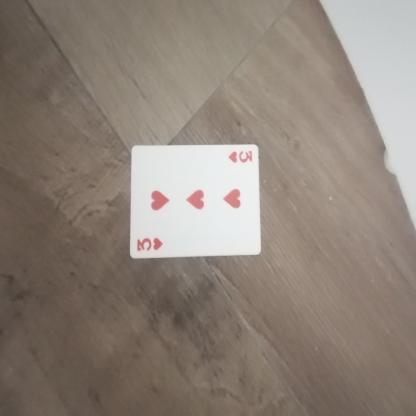3H: (127, 236, 171, 254), (225, 146, 258, 168)
